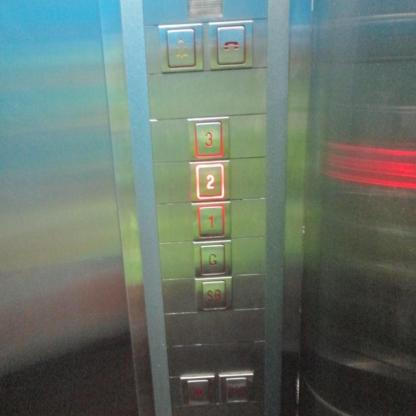1: (196, 202, 226, 240)
2: (193, 161, 226, 200)
3: (193, 118, 224, 159)
G: (198, 241, 227, 277)
SB: (200, 278, 228, 312)
alarm: (164, 24, 197, 70)
call: (214, 22, 247, 66)
close: (223, 375, 249, 404)
open: (182, 376, 212, 408)
